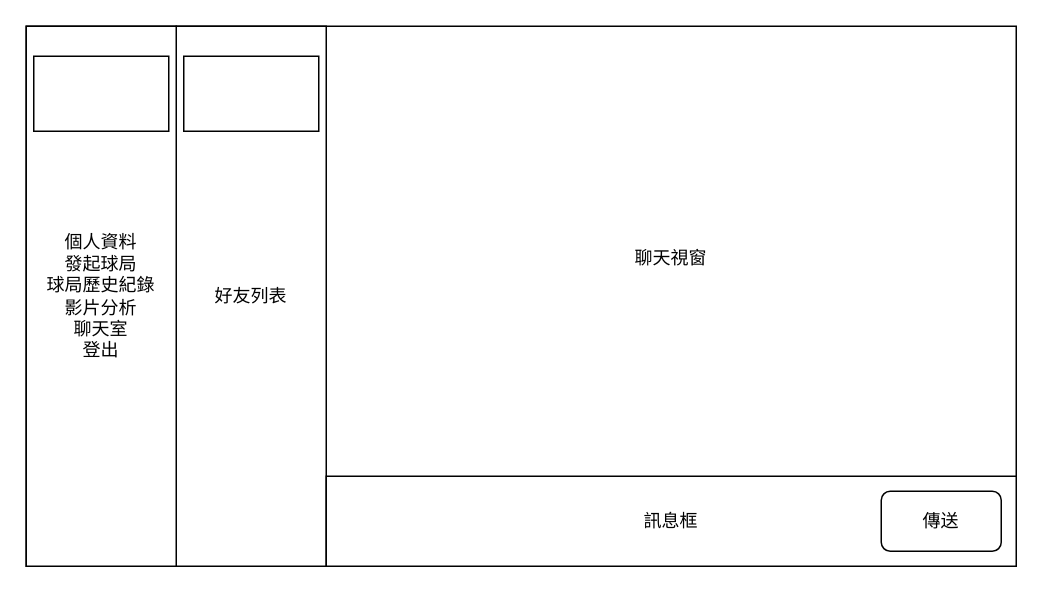
Some shapes in this 1043 by 593 pixel diagram are drawn without their labels. Here are the shapes that lost their labels. From the top down, the centre of each, then its label:
At pixel 100 93: "首頁".
At pixel 250 93: "搜尋".
